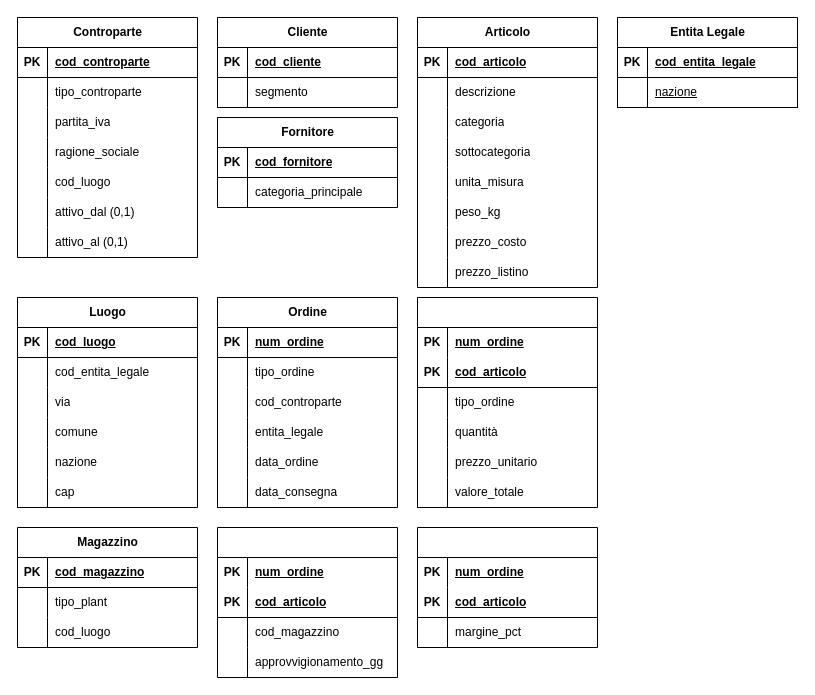
This 815x695 diagram has some shape labels left out. The shapes that lost their labels are listed below. From the top down, each one's box as (x1, y1, x2, y2) in pixels, then its label:
(416, 296, 598, 508): Transazione
(216, 526, 398, 678): Acquisto
(416, 526, 598, 648): Vendita
